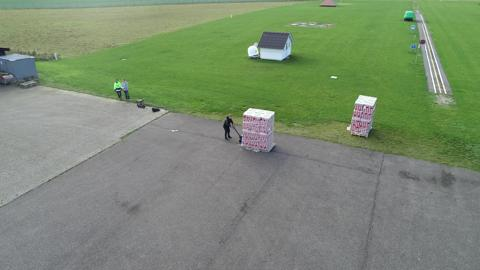RockwoolPallet: (242, 104, 278, 151)
